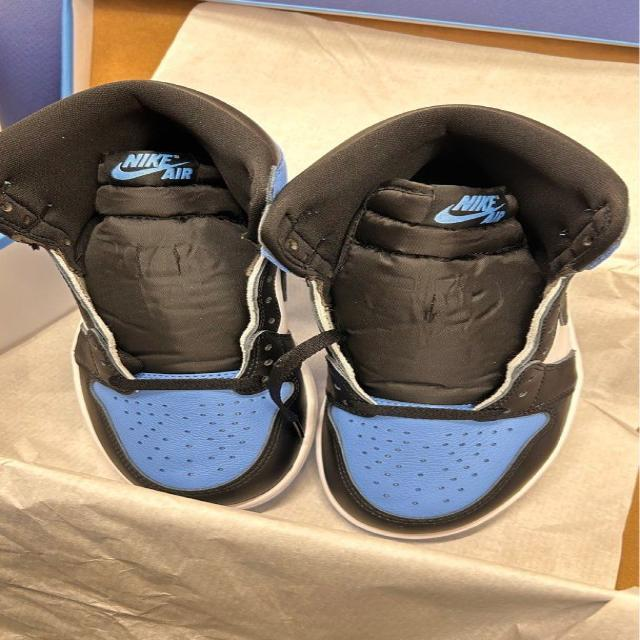nike original jordan 1: (254, 106, 628, 544), (0, 80, 320, 507)
